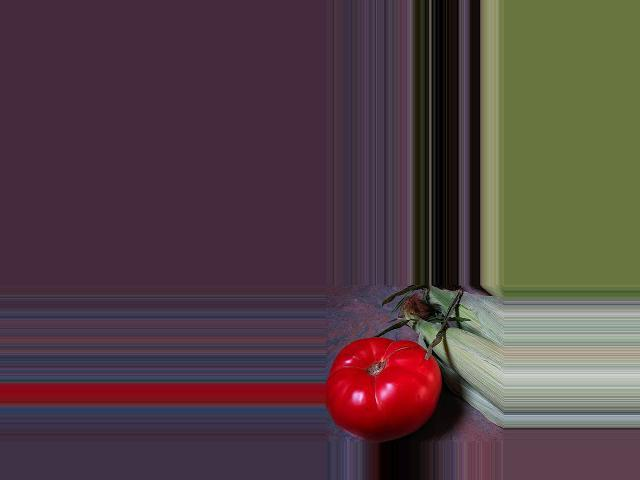tomato: (326, 337, 441, 442)
